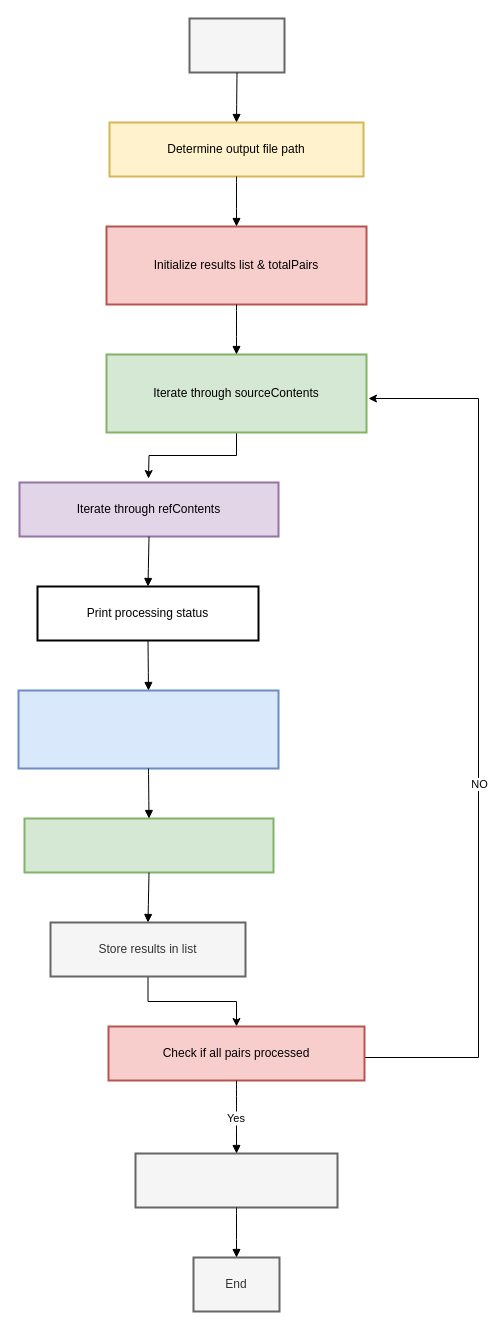
The diagram is 504 pixels wide and 1329 high, and some of its shapes have lost their labels. Each missing label, with the box of its shape:
Calculate similarity scores: (23, 817, 274, 873)
Create SimilarityHelper instance: (17, 689, 279, 769)
Start: (188, 17, 285, 73)
Write results to CSV: (134, 1152, 338, 1208)
